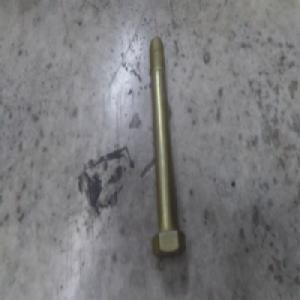Bolt: (149, 37, 187, 258)
